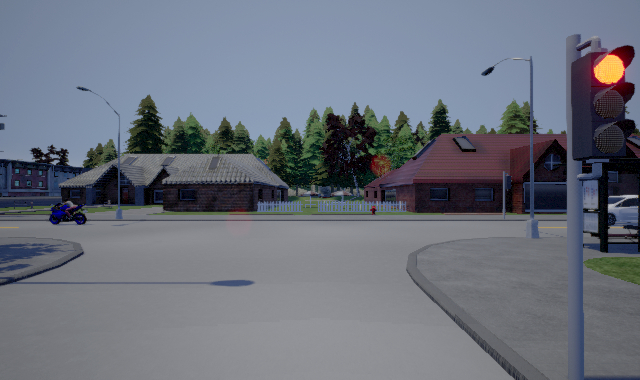motobike: (49, 200, 88, 225)
traffic_light: (571, 44, 636, 162)
vehicle: (608, 195, 640, 225)
